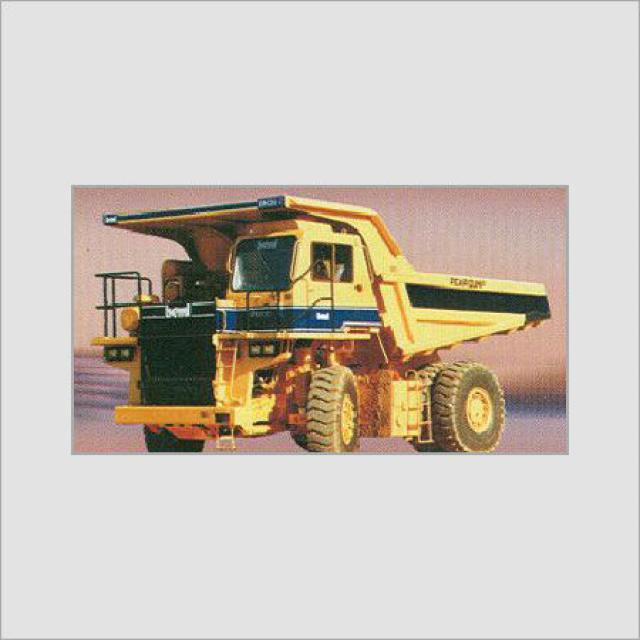dump_truck: (95, 201, 546, 460)
